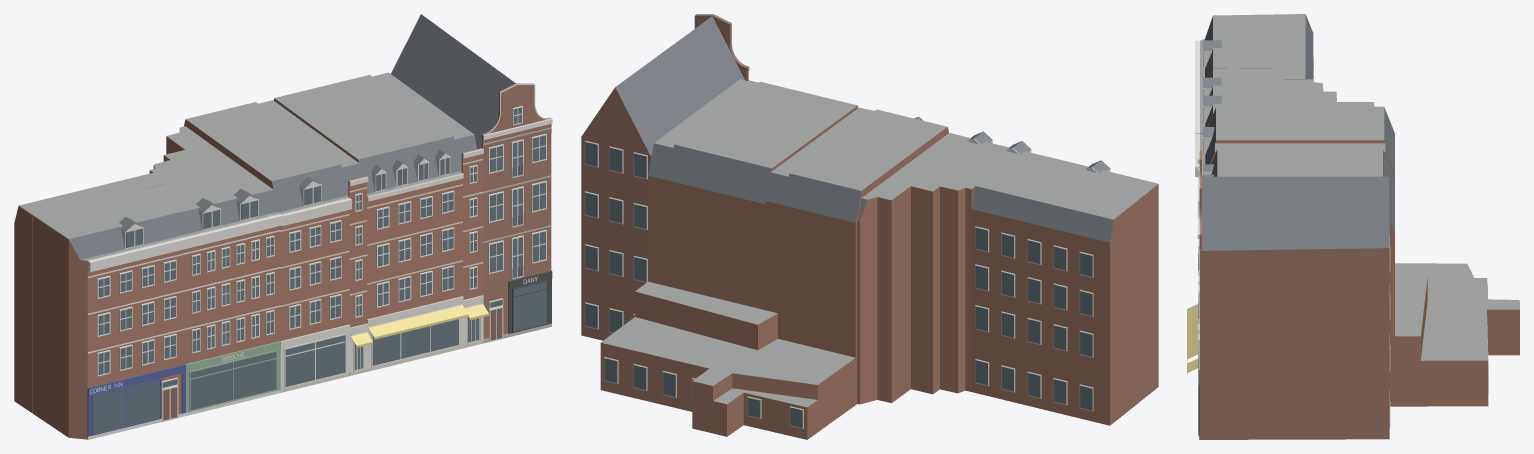
The model's file is chunk-face-bilder-233580-162444.glb.
3 renders of one model, left to right at view 1: azimuth 30°, elevation 25°; view 2: azimuth 150°, elevation 25°; view 3: azimuth 270°, elevation 25°, orthographic. The views are drawn at different scales.
Parts seen in each view (by area): view 1: face-bilder-233580-162444; view 2: face-bilder-233580-162444; view 3: face-bilder-233580-162444.
Part boxes in pixels (x1,y1,x2,y2): face-bilder-233580-162444: [14, 14, 552, 439]; face-bilder-233580-162444: [581, 14, 1158, 439]; face-bilder-233580-162444: [1187, 14, 1519, 439].
Bounding box in the file's own units: 41.85 × 20.97 × 25.55.
